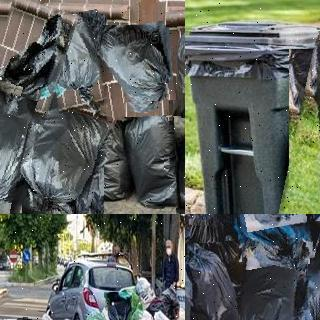Garbage: (14, 92, 111, 214), (0, 0, 71, 121), (97, 23, 175, 119), (277, 40, 320, 214), (122, 100, 185, 209), (46, 12, 111, 112), (224, 249, 303, 320), (185, 214, 243, 299), (0, 85, 38, 214), (185, 242, 242, 320), (236, 214, 312, 267), (167, 8, 185, 123), (300, 217, 320, 320), (144, 289, 182, 320), (246, 214, 306, 229), (104, 292, 132, 320), (132, 305, 158, 320)
